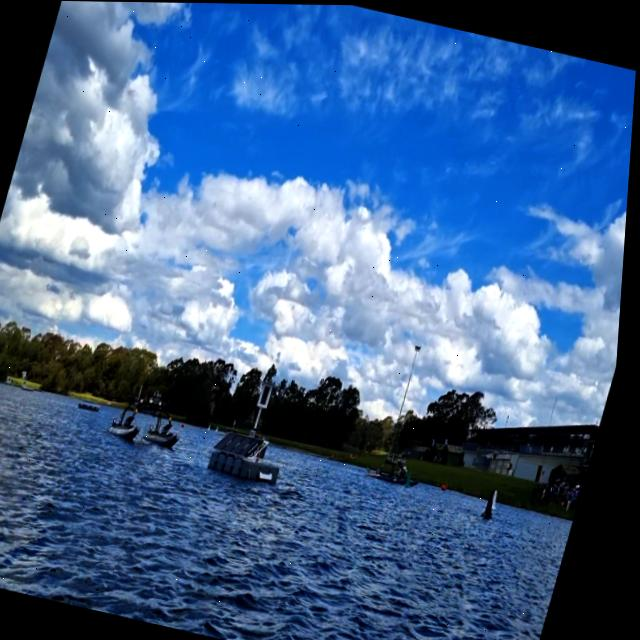led: (264, 382, 276, 405)
